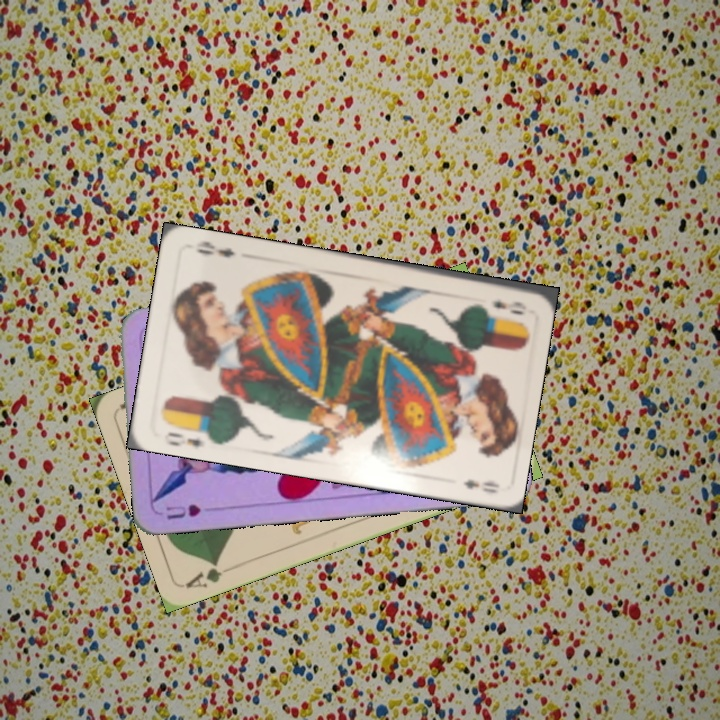EO: (163, 422, 213, 449), (488, 296, 529, 317)
GA: (182, 557, 225, 591)
HU: (162, 500, 203, 522)
